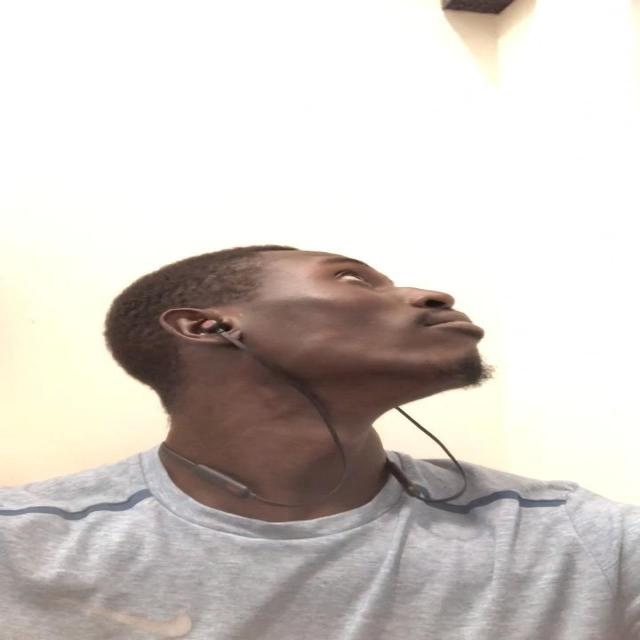face: (201, 250, 495, 398)
